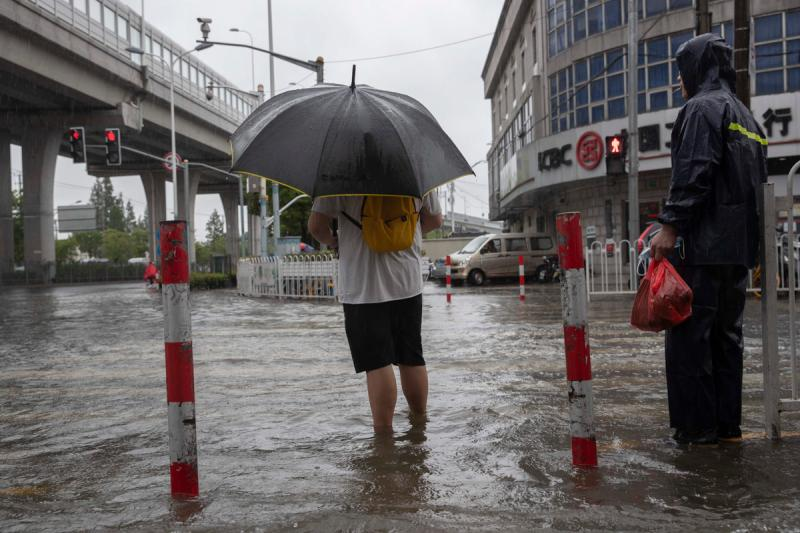puddle: (1, 301, 800, 533)
